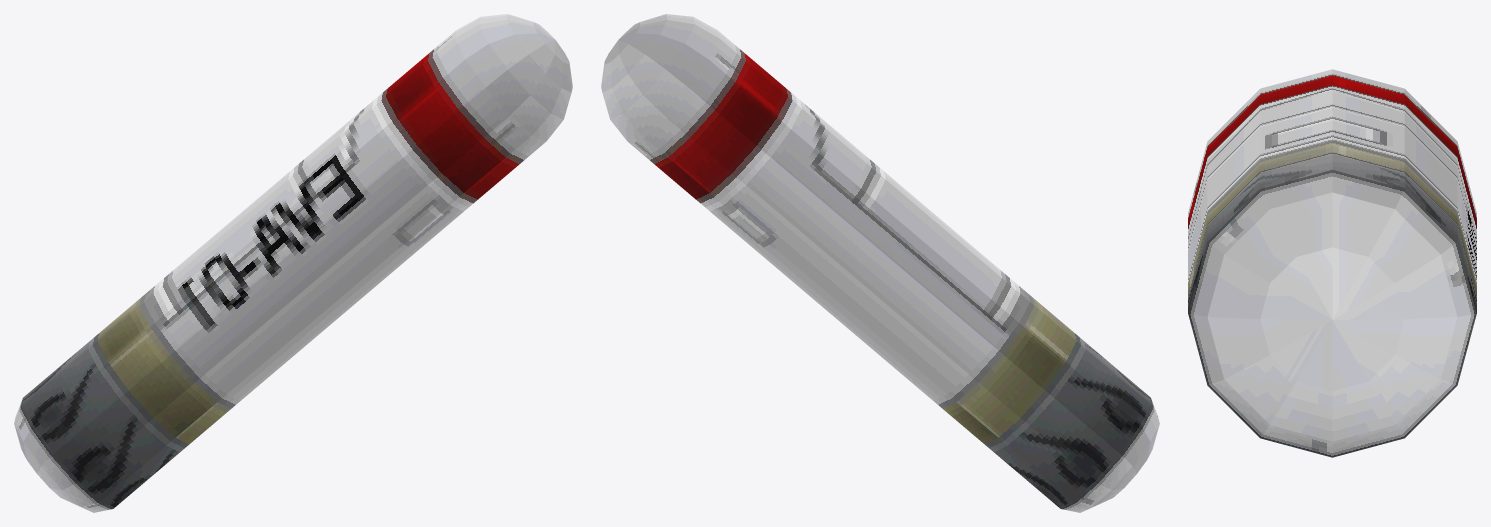
The model's file is ps2_save-icons_hppsk5evangelion2ndpachislot.glb.
3 renders of one model, left to right at view 1: azimuth 30°, elevation 25°; view 2: azimuth 150°, elevation 25°; view 3: azimuth 270°, elevation 25°, orthographic. The views are drawn at different scales.
Parts seen in each view (by area): view 1: EV2.ico; view 2: EV2.ico; view 3: EV2.ico.
Part boxes in pixels (left/top/right/bottom): EV2.ico: left=14, top=14, right=572, bottom=512; EV2.ico: left=601, top=14, right=1159, bottom=512; EV2.ico: left=1188, top=69, right=1476, bottom=457.
Size of the model in its own units: 4.8 by 3.29 by 1.12.
1 material, 1 textured.
